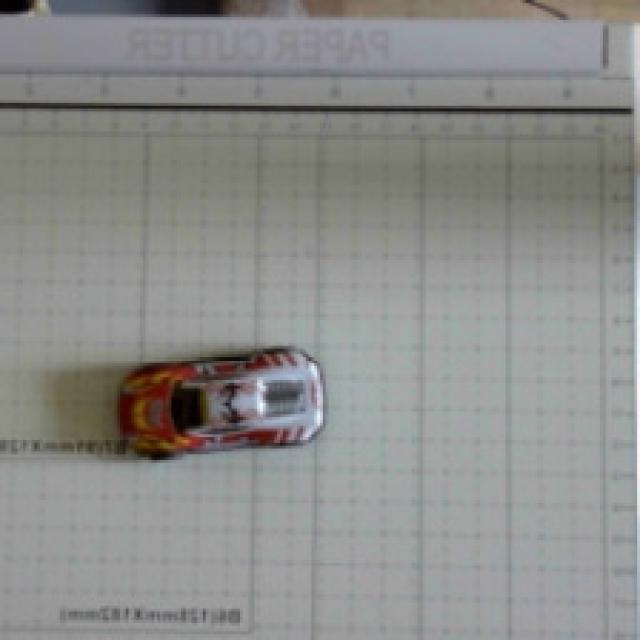Red Car: (101, 322, 342, 498)
